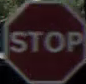Stop: (1, 3, 83, 78)
